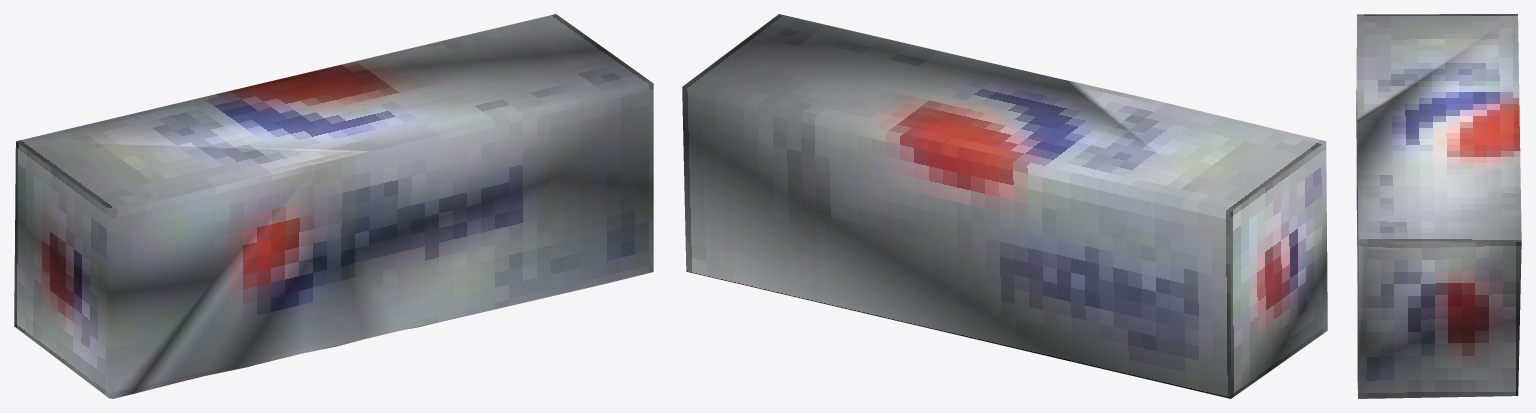
The model's file is Diet_Pepsi_Soda_Cola12_Pack_12_oz_Cans-low.glb.
3 renders of one model, left to right at view 1: azimuth 30°, elevation 25°; view 2: azimuth 150°, elevation 25°; view 3: azimuth 270°, elevation 25°, orthographic. The views are drawn at different scales.
Visible parts, largest first — view 1: Diet_Pepsi_Soda_Cola12_Pack_12_oz_Cans; view 2: Diet_Pepsi_Soda_Cola12_Pack_12_oz_Cans; view 3: Diet_Pepsi_Soda_Cola12_Pack_12_oz_Cans.
Boxes of the visible parts, x1,y1,x2,y2 form: Diet_Pepsi_Soda_Cola12_Pack_12_oz_Cans: [14, 14, 653, 398]; Diet_Pepsi_Soda_Cola12_Pack_12_oz_Cans: [682, 14, 1327, 398]; Diet_Pepsi_Soda_Cola12_Pack_12_oz_Cans: [1356, 14, 1521, 398].
Bounding box in the file's own units: 0.3996 × 0.1348 × 0.1243.
Materials: 1 (1 with a texture image).
